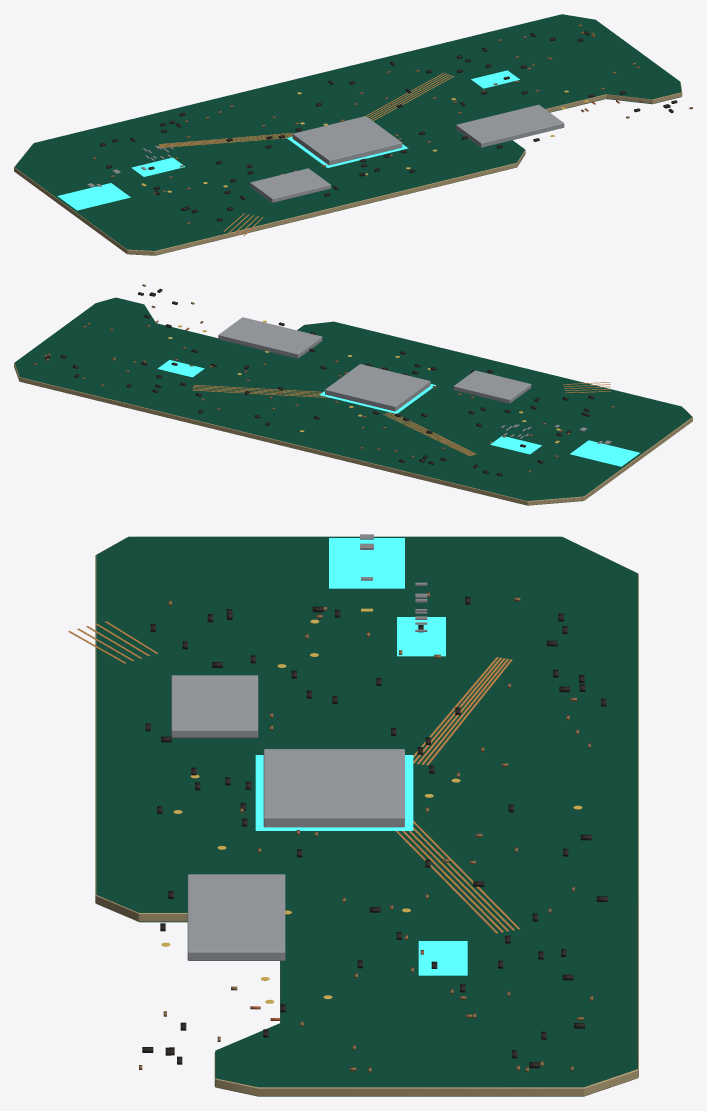
File: B02_MAINBOARD_LOD0.glb
3 views of the same model, one above another, from view 1: azimuth 30°, elevation 25°; view 2: azimuth 150°, elevation 25°; view 3: azimuth 270°, elevation 25° (orthographic). The views are drawn at different scales.
Visible parts, largest first — view 1: B02_BOARD_MASK_TOP, B02_BOARD_CORE, B02_SHIELD_PMIC, B02_SHIELD_RF, B02_SHIELD_AUX, B02_ZONE_PORT, B02_ZONE_IFC, B02_ZONE_BATTCONN, B02_ZONE_PMIC; view 2: B02_BOARD_MASK_TOP, B02_BOARD_CORE, B02_SHIELD_PMIC, B02_SHIELD_RF, B02_SHIELD_AUX, B02_ZONE_PORT, B02_ZONE_IFC, B02_ZONE_BATTCONN, B02_ZONE_PMIC; view 3: B02_BOARD_MASK_TOP, B02_SHIELD_PMIC, B02_SHIELD_RF, B02_BOARD_CORE, B02_SHIELD_AUX, B02_ZONE_PORT, B02_ZONE_PMIC, B02_ZONE_IFC, B02_ZONE_BATTCONN.
Part boxes in pixels (x1,y1,x2,y2): B02_BOARD_MASK_TOP: [15, 14, 681, 250]; B02_BOARD_CORE: [14, 82, 682, 255]; B02_SHIELD_PMIC: [292, 116, 402, 165]; B02_SHIELD_RF: [456, 104, 564, 147]; B02_SHIELD_AUX: [250, 168, 330, 202]; B02_ZONE_PORT: [57, 183, 130, 210]; B02_ZONE_IFC: [131, 157, 185, 176]; B02_ZONE_BATTCONN: [471, 70, 519, 88]; B02_ZONE_PMIC: [287, 136, 408, 167]; B02_BOARD_MASK_TOP: [14, 297, 691, 500]; B02_BOARD_CORE: [14, 363, 692, 505]; B02_SHIELD_PMIC: [325, 364, 430, 411]; B02_SHIELD_RF: [218, 317, 322, 358]; B02_SHIELD_AUX: [453, 370, 531, 403]; B02_ZONE_PORT: [570, 440, 639, 466]; B02_ZONE_IFC: [490, 435, 541, 454]; B02_ZONE_BATTCONN: [157, 360, 204, 377]; B02_ZONE_PMIC: [319, 384, 435, 413]; B02_BOARD_MASK_TOP: [96, 536, 637, 1087]; B02_SHIELD_PMIC: [263, 749, 404, 827]; B02_SHIELD_RF: [187, 874, 285, 960]; B02_BOARD_CORE: [95, 538, 638, 1096]; B02_SHIELD_AUX: [171, 675, 258, 737]; B02_ZONE_PORT: [329, 538, 404, 588]; B02_ZONE_PMIC: [255, 755, 413, 830]; B02_ZONE_IFC: [397, 617, 445, 656]; B02_ZONE_BATTCONN: [418, 941, 467, 975].
Bounding box in the file's own units: 120 × 5.27 × 52.49.
